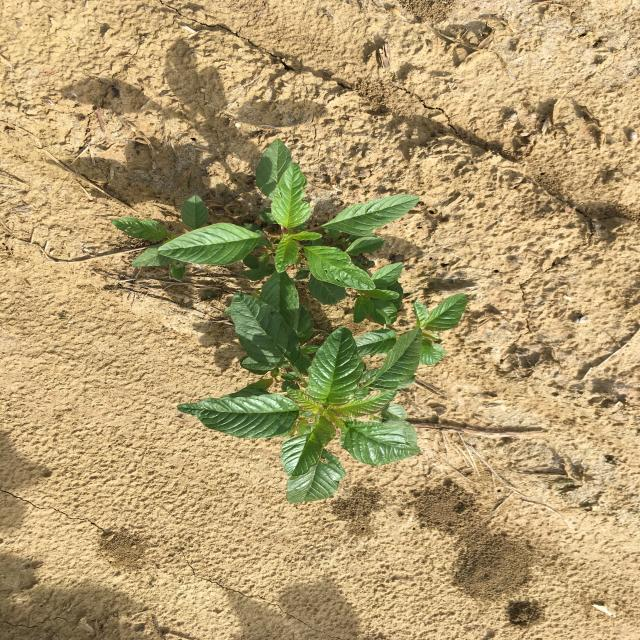Waterhemp: (111, 138, 469, 504)
